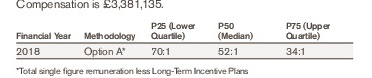table: (0, 0, 372, 78)
